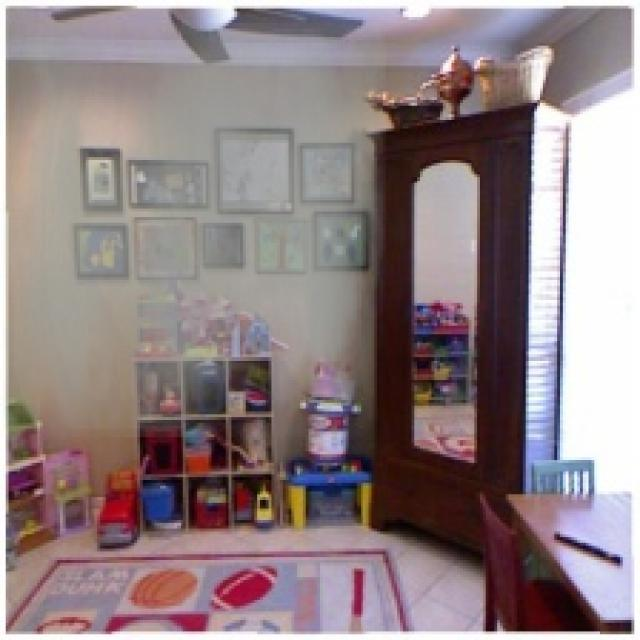smoke: (3, 23, 386, 437)
